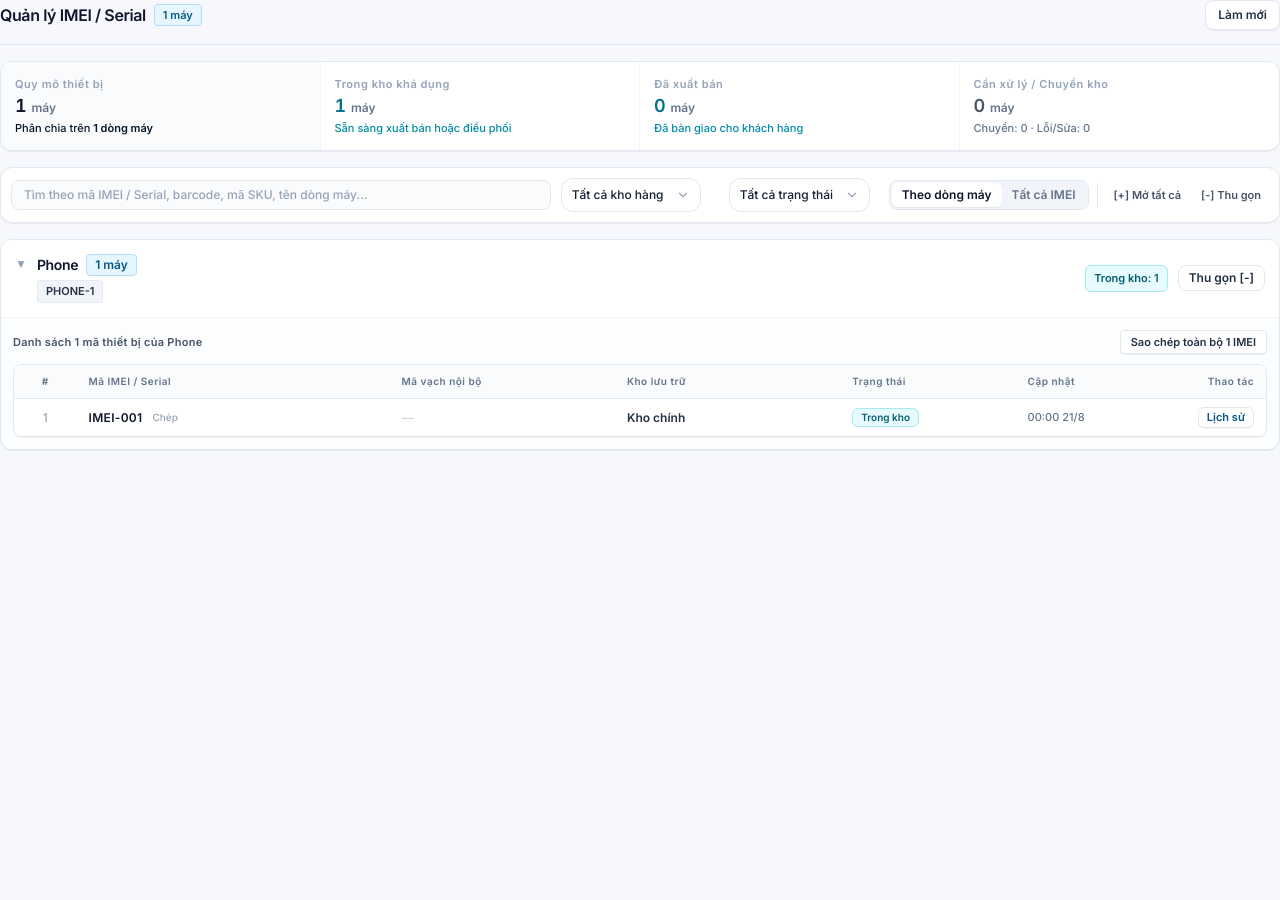
it: SerialRegistrySection history › opens history in a dialog and closes from the close control or backdrop
Check: the text "IMEI-001" is shown, box [89,410,142,426]
Check: the text "Trong kho" is shown, box [852,408,919,427]
Click the button "Lịch sử".
click(1226, 418)  # box [1198,408,1254,428]
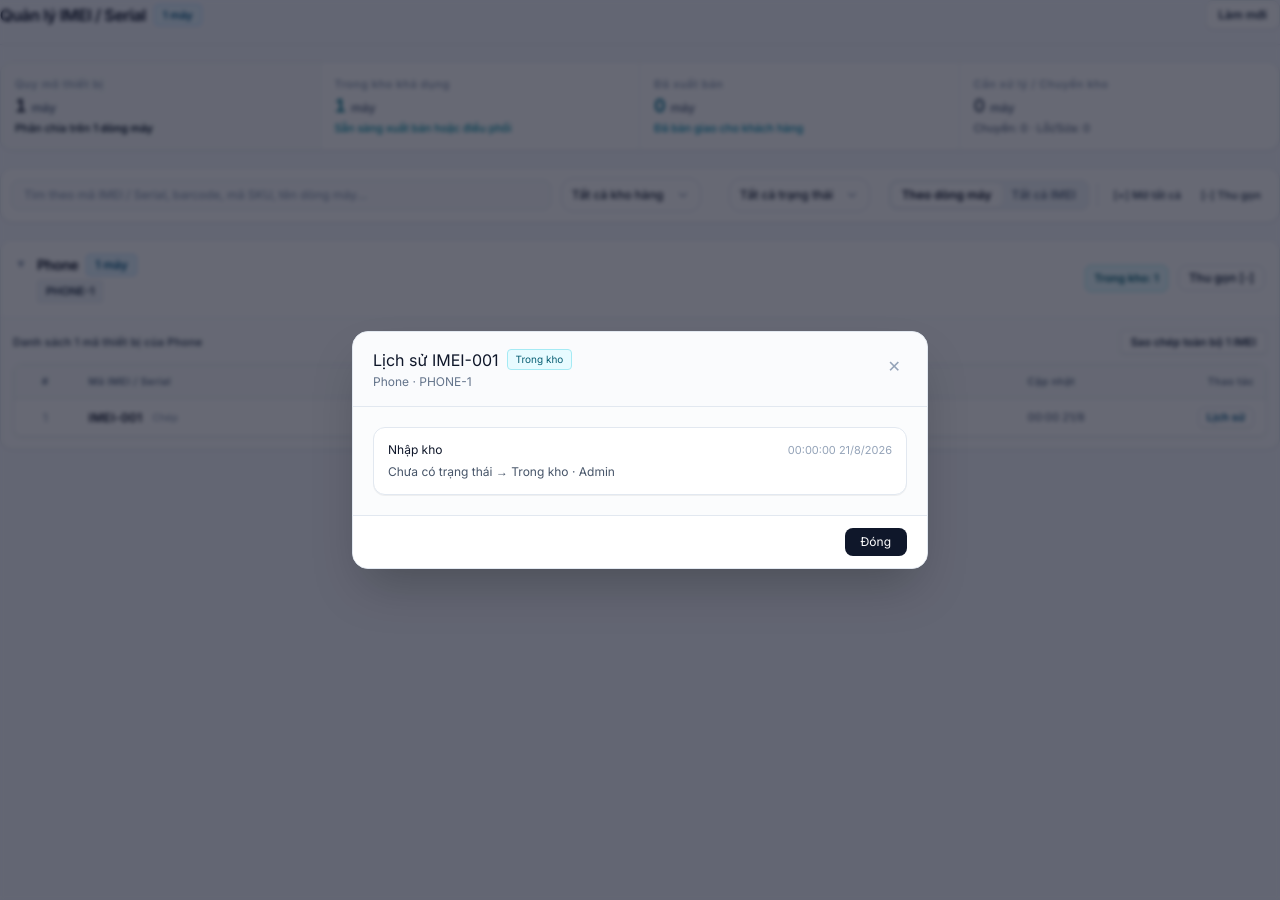
Check: the dialog named "Lịch sử IMEI / Serial" is shown, box [352,331,928,569]
Check: the text "Nhập kho" is shown, box [388,442,442,458]
Check: the text "Chưa có trạng thái → Trong kho · Admin" is shown, box [388,464,615,479]
Click the button named "Đóng lịch sử".
click(894, 366)  # box [882,348,907,384]
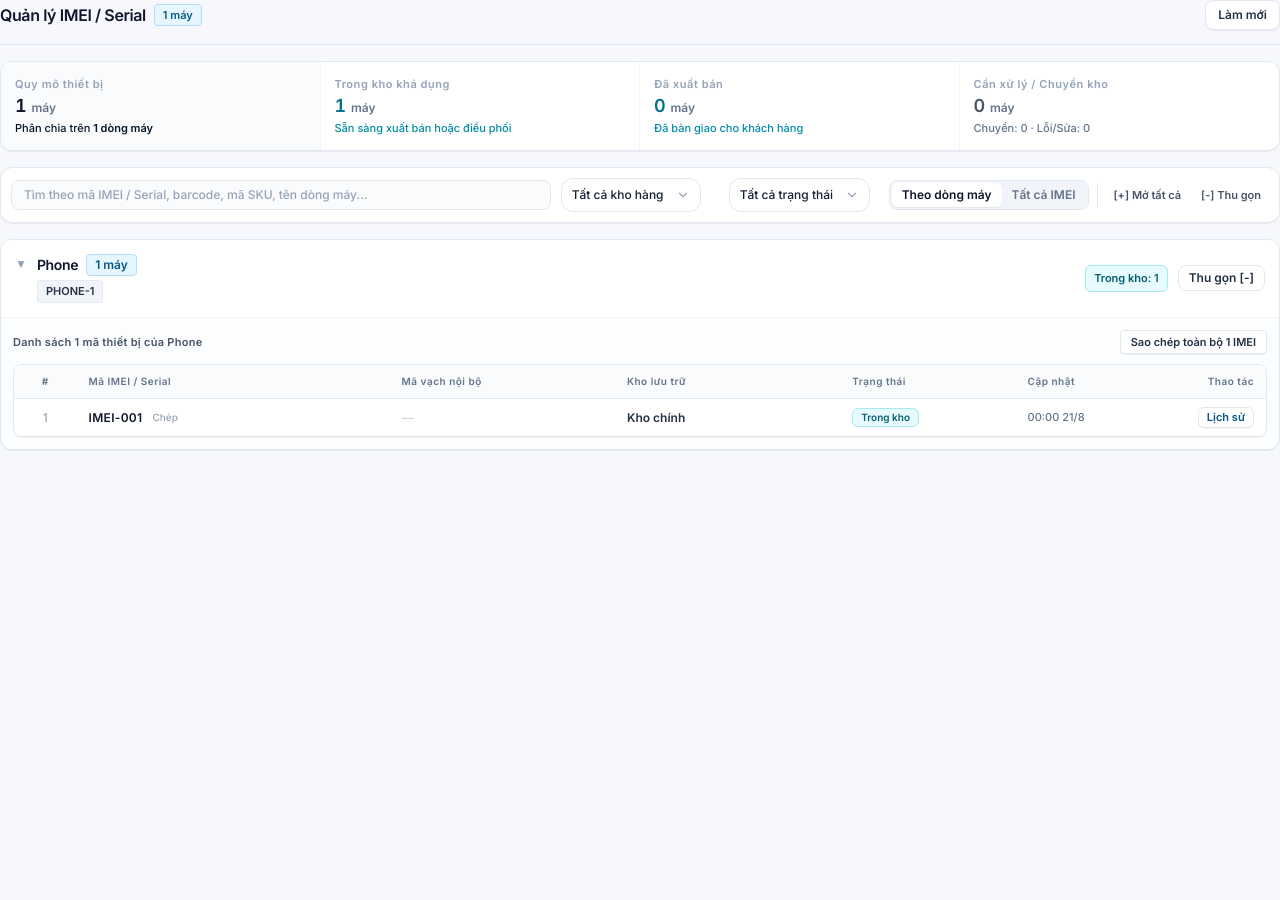
Check: the dialog is gone
Click the button "Lịch sử".
click(1226, 418)  # box [1198,408,1254,428]
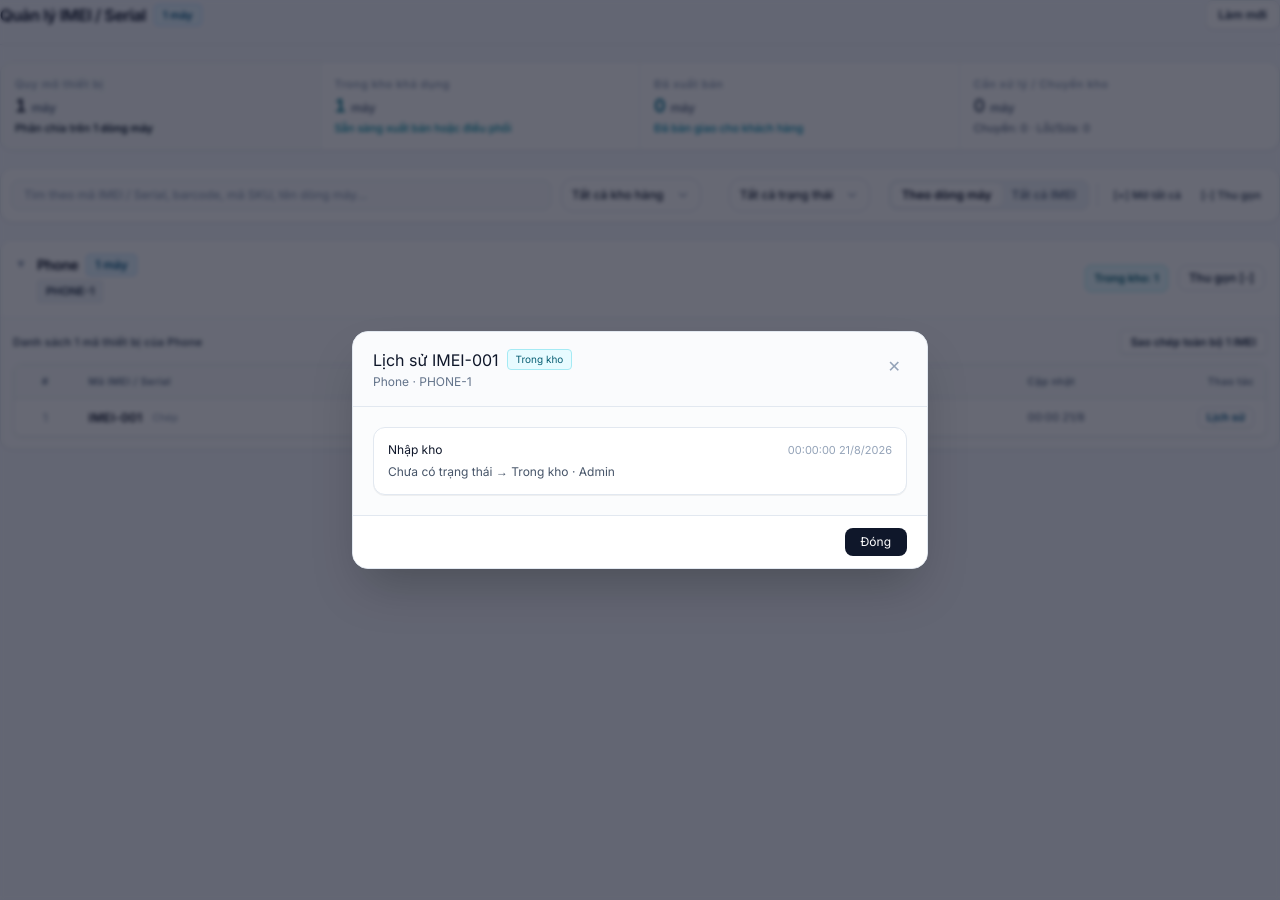
Check: the dialog is shown, box [352,331,928,569]
Click the element with test id "serial-history-backdrop".
click(77, 450)  # box [0,0,1279,899]
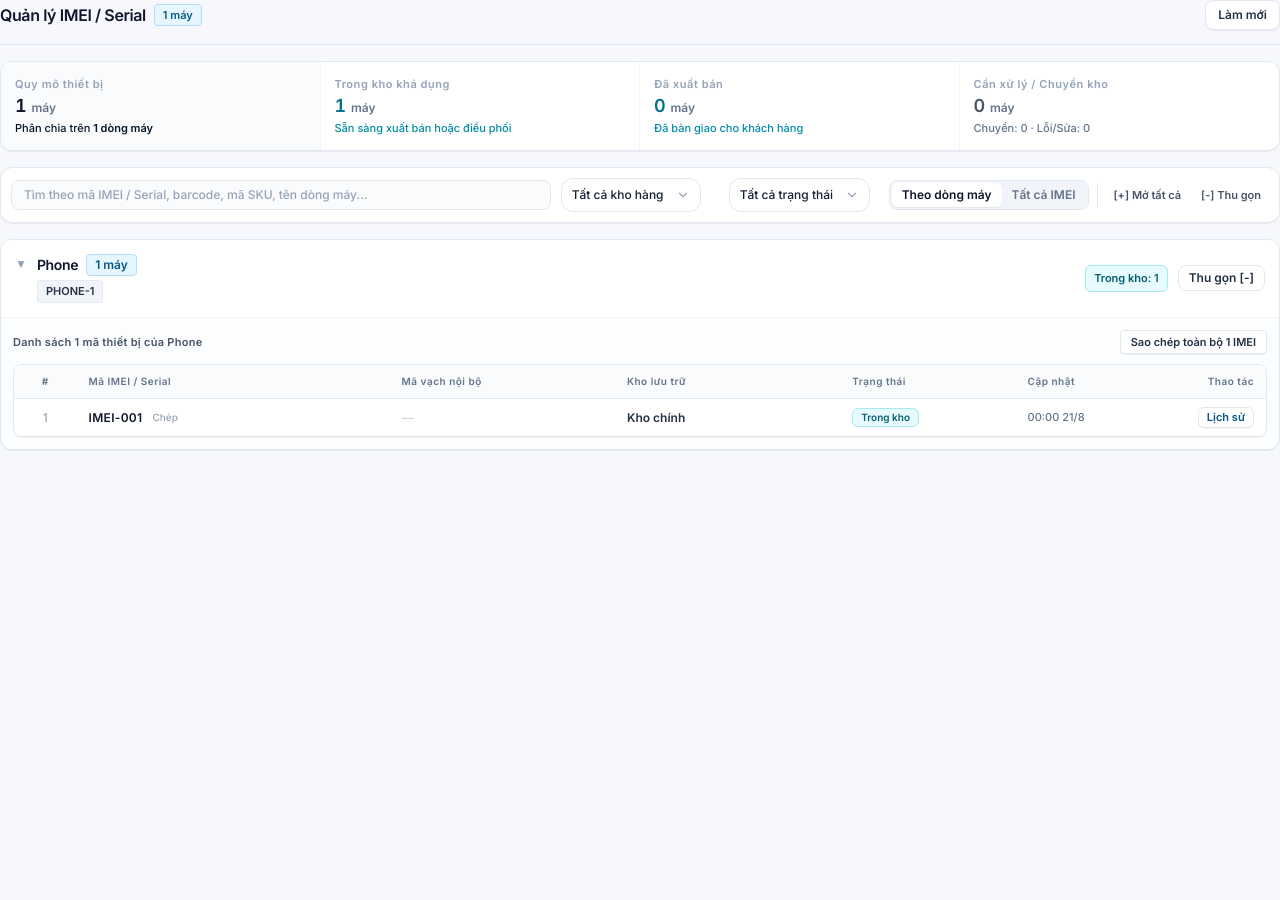
Check: the dialog is gone
